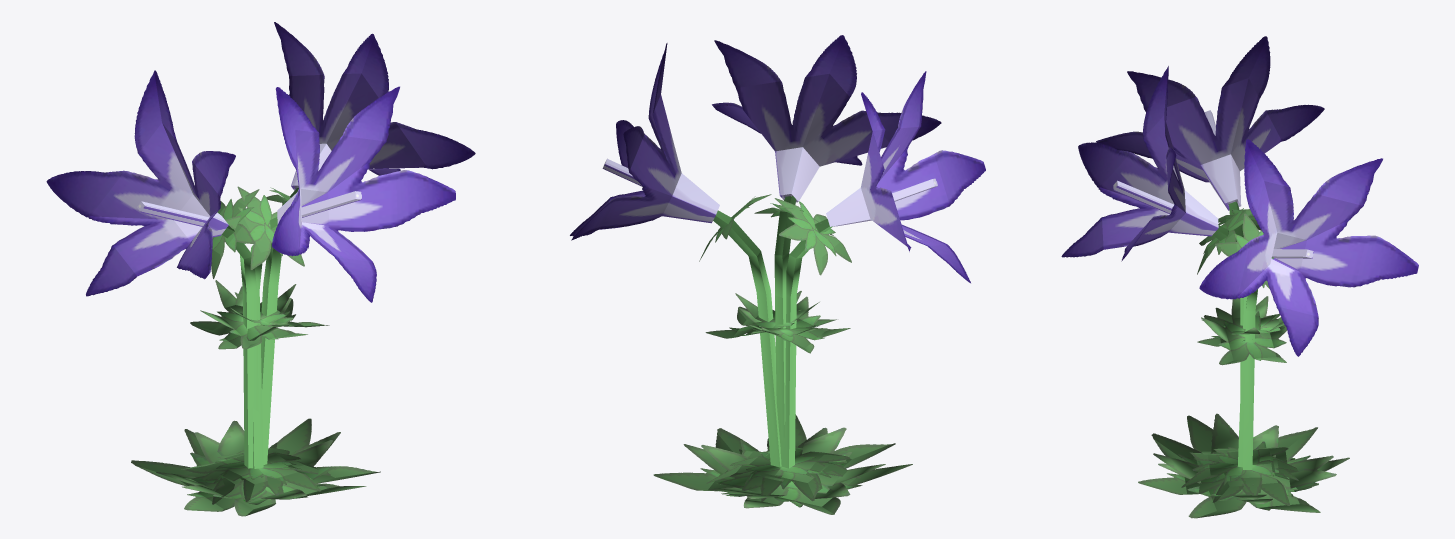
File: RoyalBlueBell_Hand.fbx
3 views of the same model, side by side, from view 1: azimuth 30°, elevation 25°; view 2: azimuth 150°, elevation 25°; view 3: azimuth 270°, elevation 25° (orthographic). The views are drawn at different scales.
Visible parts, largest first — view 1: BillyButton (2), BillyButton (1), BillyButton; view 2: BillyButton (2), BillyButton (1), BillyButton; view 3: BillyButton, BillyButton (2), BillyButton (1).
Boxes of the visible parts, x1,y1,x2,y2 form: BillyButton (2): [46, 70, 340, 511]; BillyButton (1): [156, 86, 455, 516]; BillyButton: [182, 22, 475, 502]; BillyButton (2): [683, 71, 985, 514]; BillyButton (1): [701, 35, 941, 508]; BillyButton: [570, 43, 885, 498]; BillyButton: [1153, 139, 1418, 518]; BillyButton (2): [1096, 36, 1336, 503]; BillyButton (1): [1061, 66, 1349, 499].
Size of the model in its own units: 1.33 by 1.45 by 1.15.
